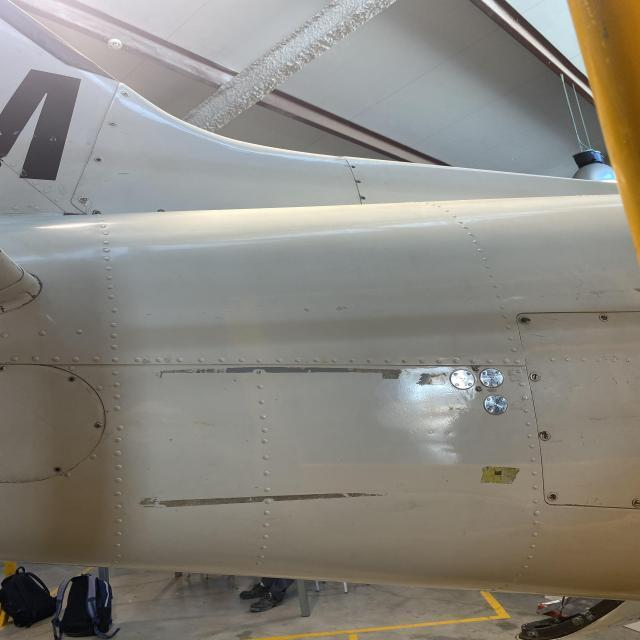Fastener Damage: (64, 375, 79, 383), (94, 155, 106, 164), (54, 466, 62, 474), (350, 165, 358, 169)
